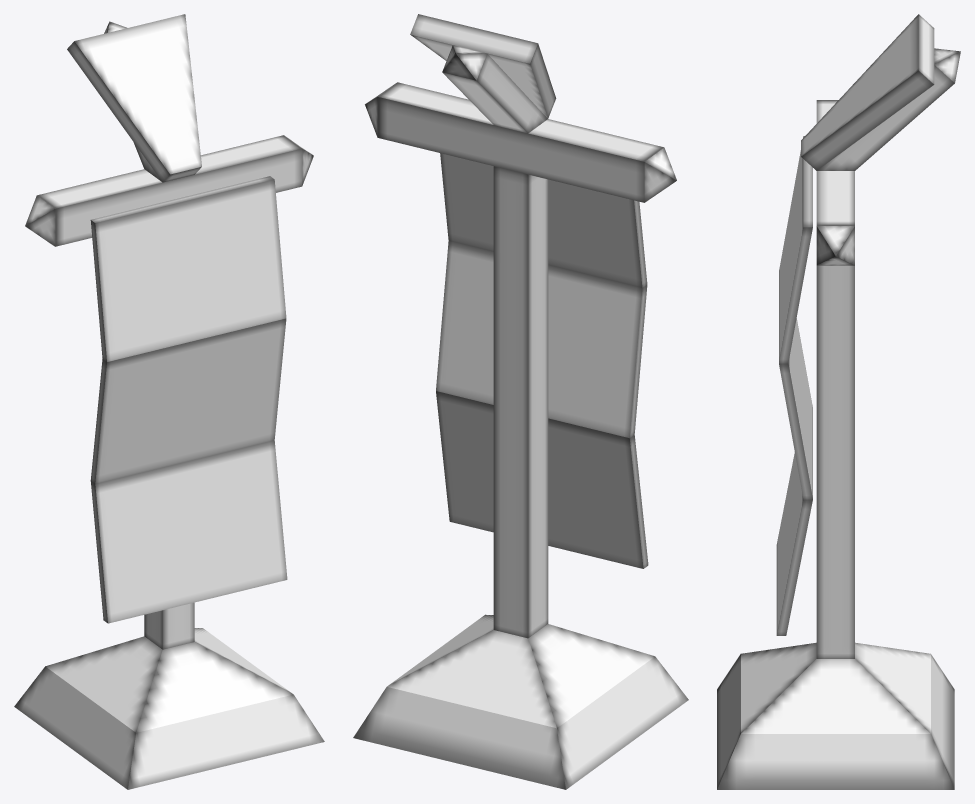
File: Banner-01.fbx
3 views of the same model, side by side, from view 1: azimuth 30°, elevation 25°; view 2: azimuth 150°, elevation 25°; view 3: azimuth 270°, elevation 25° (orthographic). The views are drawn at different scales.
Parts seen in each view (by area): view 1: Banner_01; view 2: Banner_01; view 3: Banner_01.
Part boxes in pixels (x1,y1,x2,y2): Banner_01: (14, 14, 324, 789); Banner_01: (353, 14, 688, 789); Banner_01: (717, 14, 960, 789).
Size of the model in its own units: 0.5488 by 1.21 by 0.3841.
